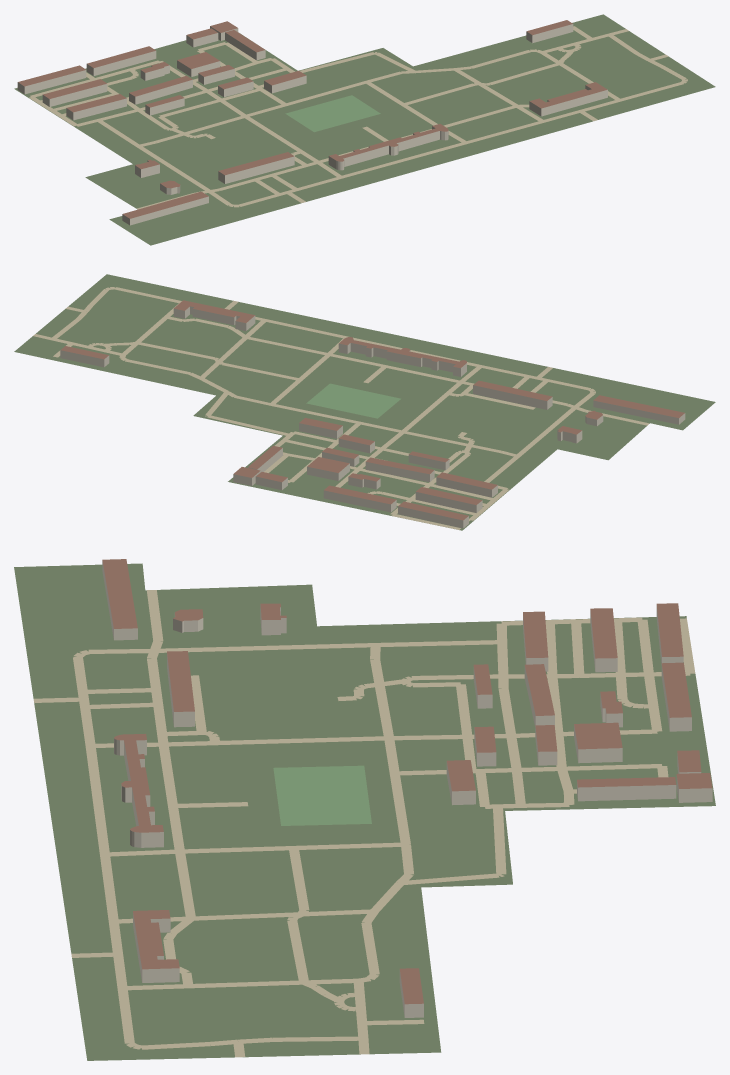
The picture shows the model from 3 angles, top to bottom: view 1: azimuth 30°, elevation 25°; view 2: azimuth 150°, elevation 25°; view 3: azimuth 270°, elevation 25°; orthographic projection. The views are drawn at different scales.
Visible parts, largest first — view 1: campus-ground, environment (×2), buildings, roofs; view 2: campus-ground, environment (×2), buildings, roofs; view 3: campus-ground, environment (×2), roofs, buildings.
Part boxes in pixels (x1,y1,x2,y2): campus-ground: (14, 14, 715, 245); environment (×2): (17, 26, 687, 209); buildings: (17, 24, 607, 225); roofs: (18, 20, 607, 218); campus-ground: (14, 274, 715, 530); environment (×2): (33, 287, 649, 529); buildings: (60, 306, 685, 528); roofs: (60, 300, 684, 520); campus-ground: (14, 563, 715, 1060); environment (×2): (33, 590, 695, 1057); roofs: (102, 559, 712, 1004); buildings: (102, 560, 712, 1017).
Size of the model in its own units: 927 by 13.4 by 553.
